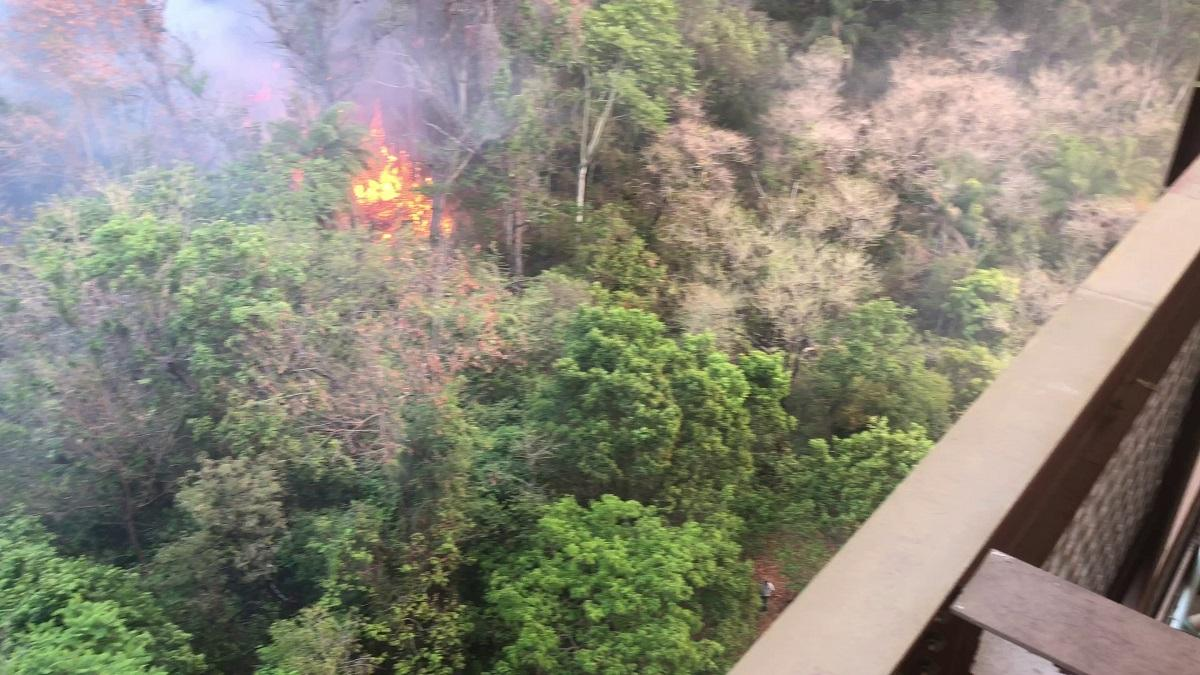fire: (363, 175, 424, 200)
smoke: (189, 20, 268, 115)
